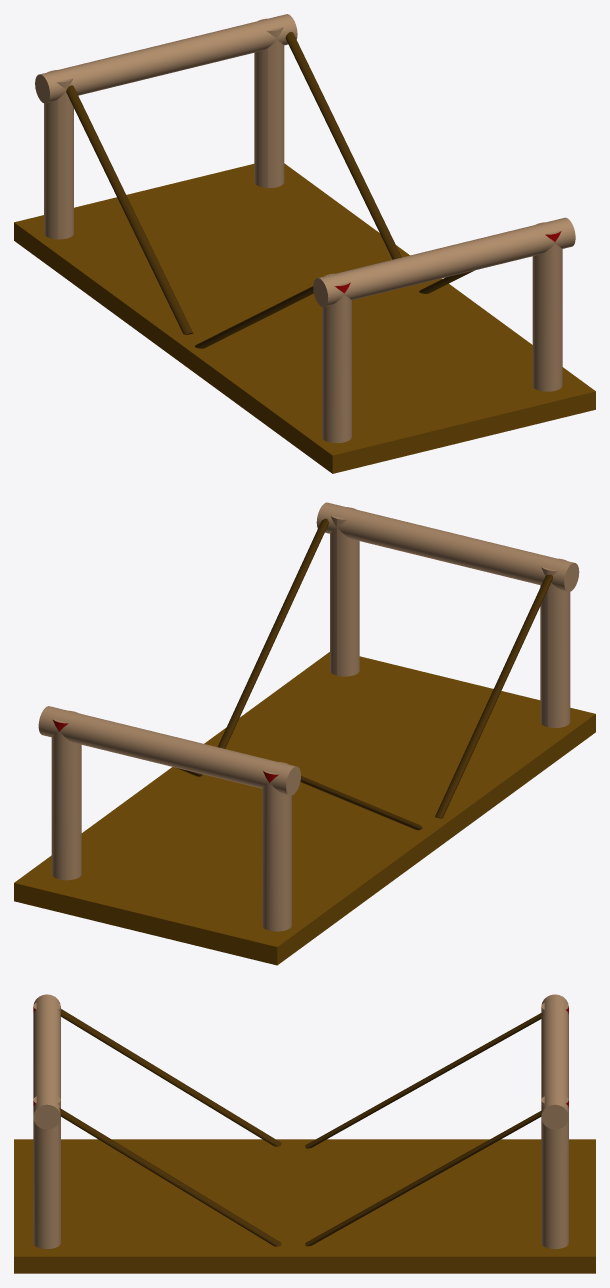
File: Bridge .fbx
3 views of the same model, one above another, from view 1: azimuth 30°, elevation 25°; view 2: azimuth 150°, elevation 25°; view 3: azimuth 270°, elevation 25° (orthographic). The views are drawn at different scales.
Parts seen in each view (by area): view 1: pCylinder14; view 2: pCylinder14; view 3: pCylinder14.
Part boxes in pixels (x1,y1,x2,y2): pCylinder14: [14, 14, 595, 473]; pCylinder14: [14, 502, 595, 965]; pCylinder14: [14, 994, 595, 1273].
Size of the model in its own units: 1.51 by 0.9958 by 3.17.
